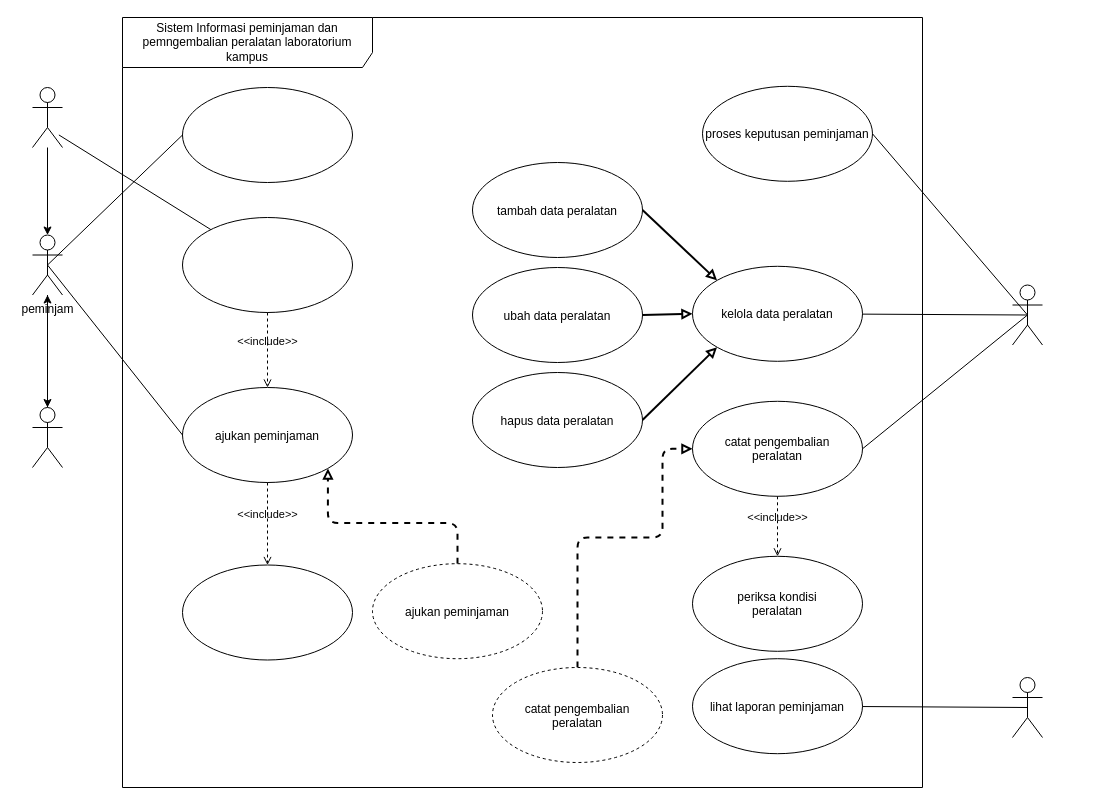
The diagram is 1097 pixels wide and 805 high, and some of its shapes have lost their labels. Here are the shapes that lost their labels. From the top down, the centre of each, then its label:
At (47,117): "mahasiswa".
At (267,134): "lihat ketersediaan peralatan".
At (267,264): "cetak bukti pengajuan".
At (1027,314): "petugas laboratium".
At (47,437): "dosen".
At (267,612): "periksa ketersediaan".
At (1027,707): "kepala laboratorium".
